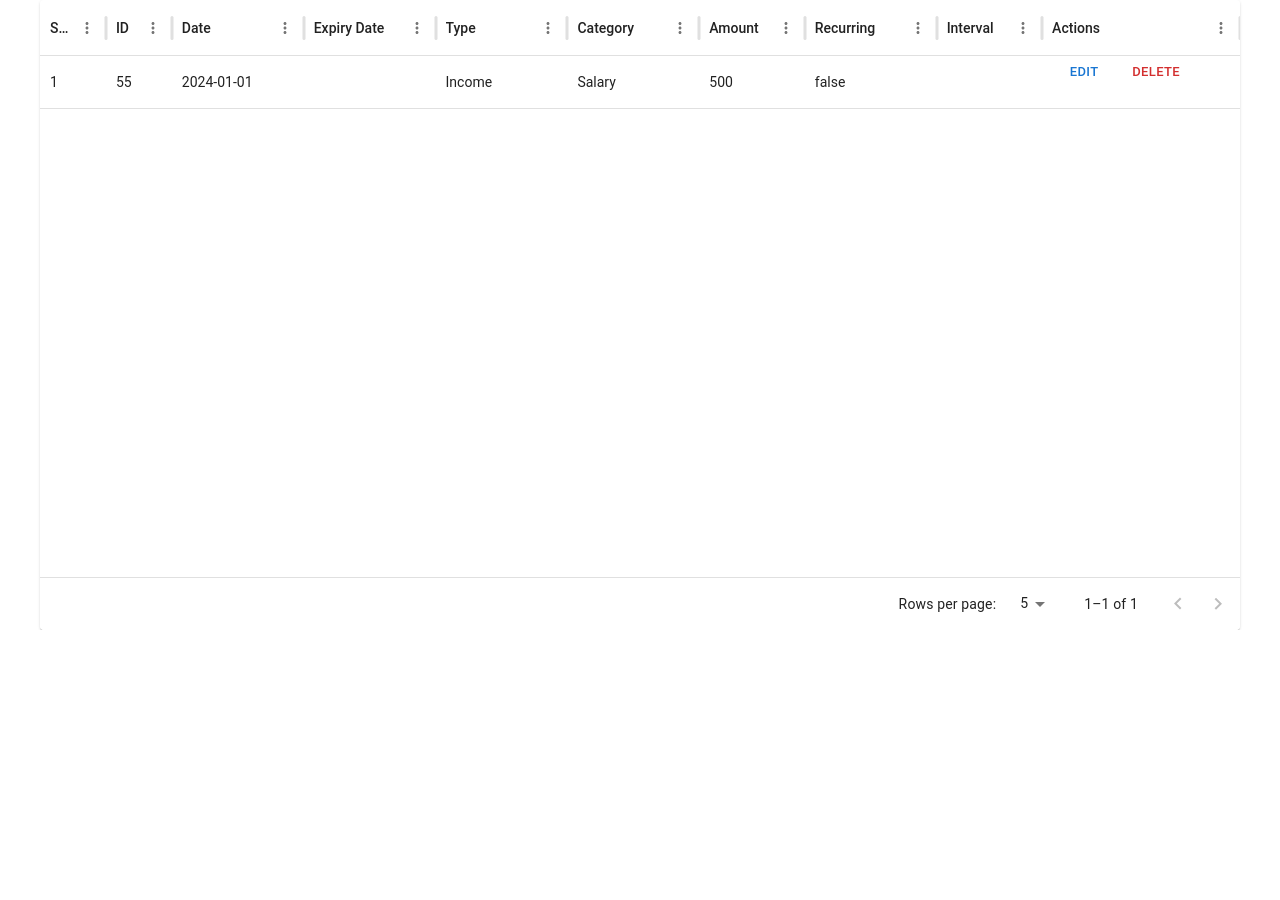
PaginationTable › closing TransactionForm removes it from DOM
Click the button "Edit" at (1084, 72), box [1052,57,1116,88]
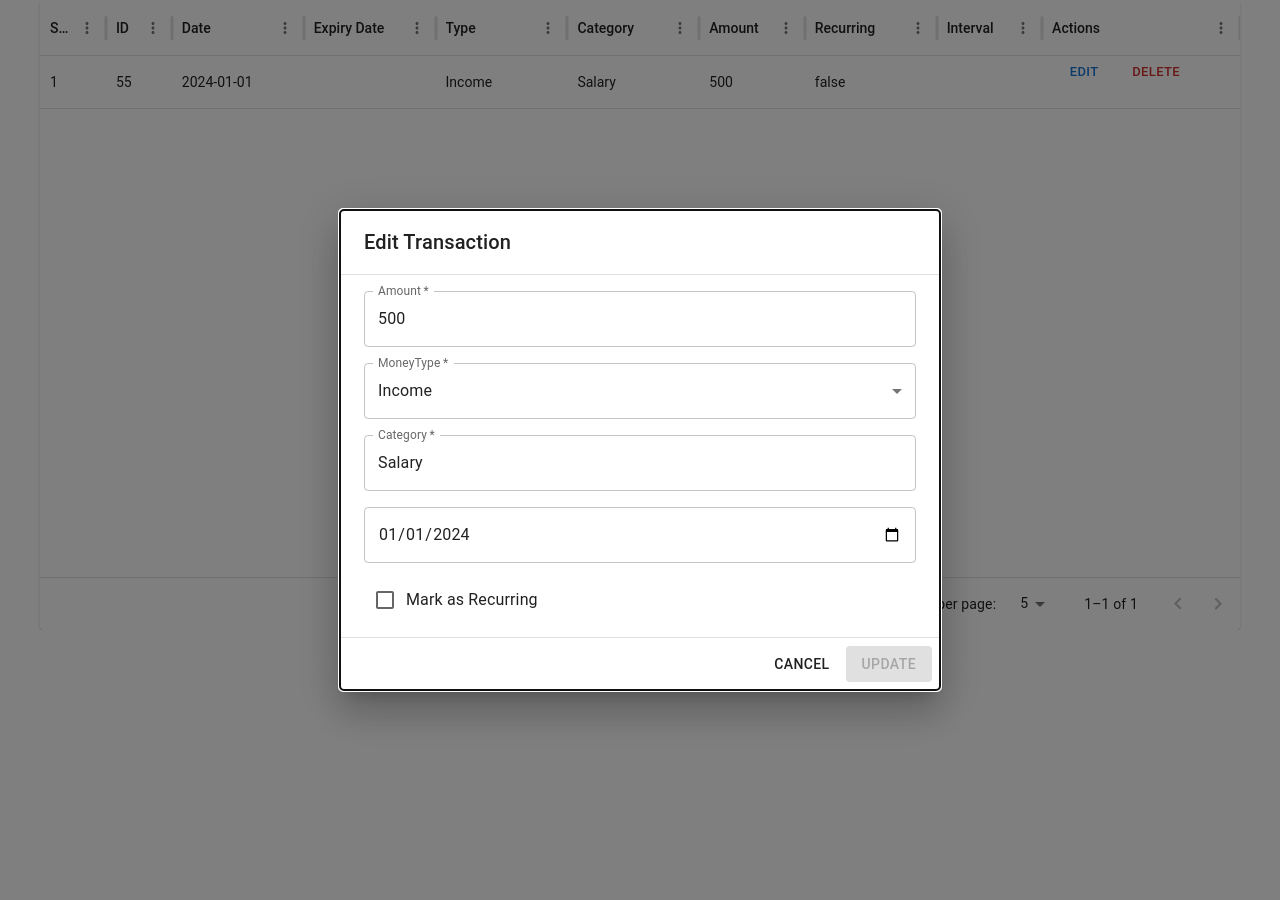
expect the heading "Edit Transaction" is shown: met, box [364,230,511,254]
Click the button "Cancel" at (802, 664), box [766,646,838,682]
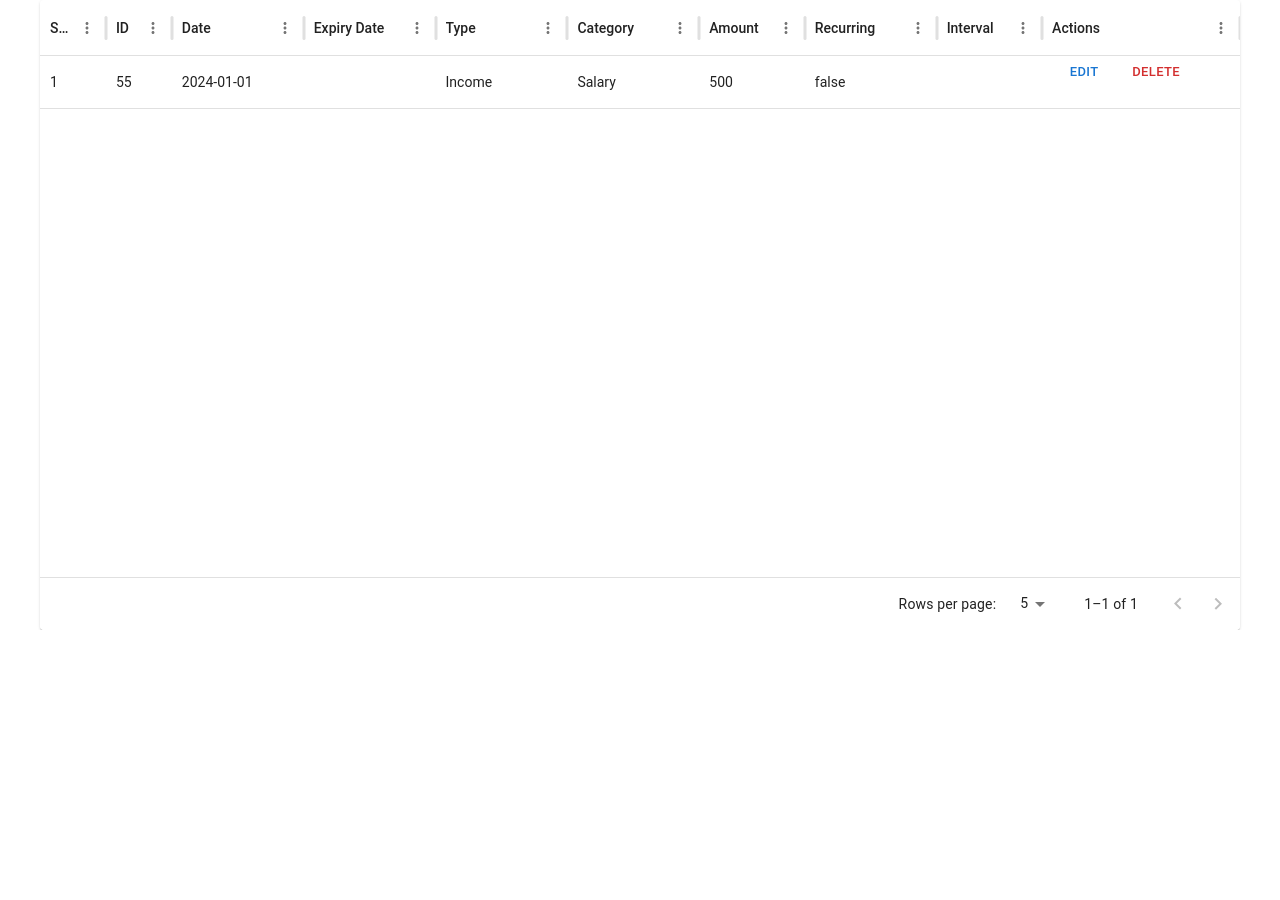
expect the heading "Transaction" is gone: met
